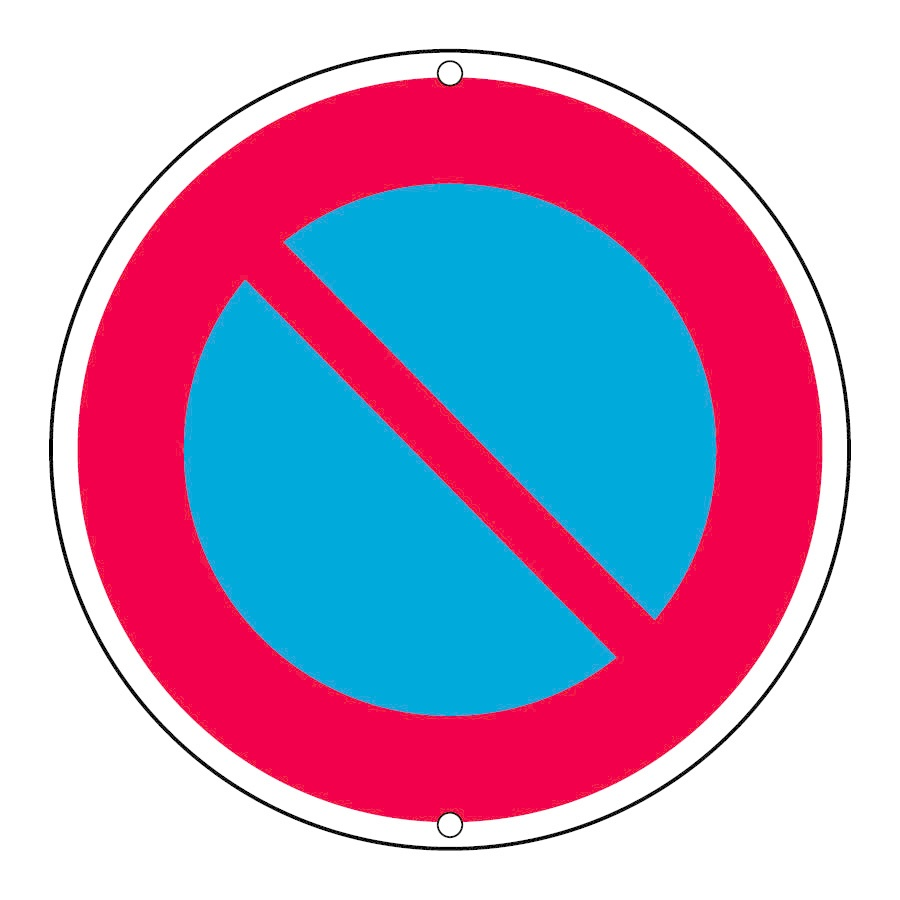Prohibition_sign: (48, 42, 881, 883)
